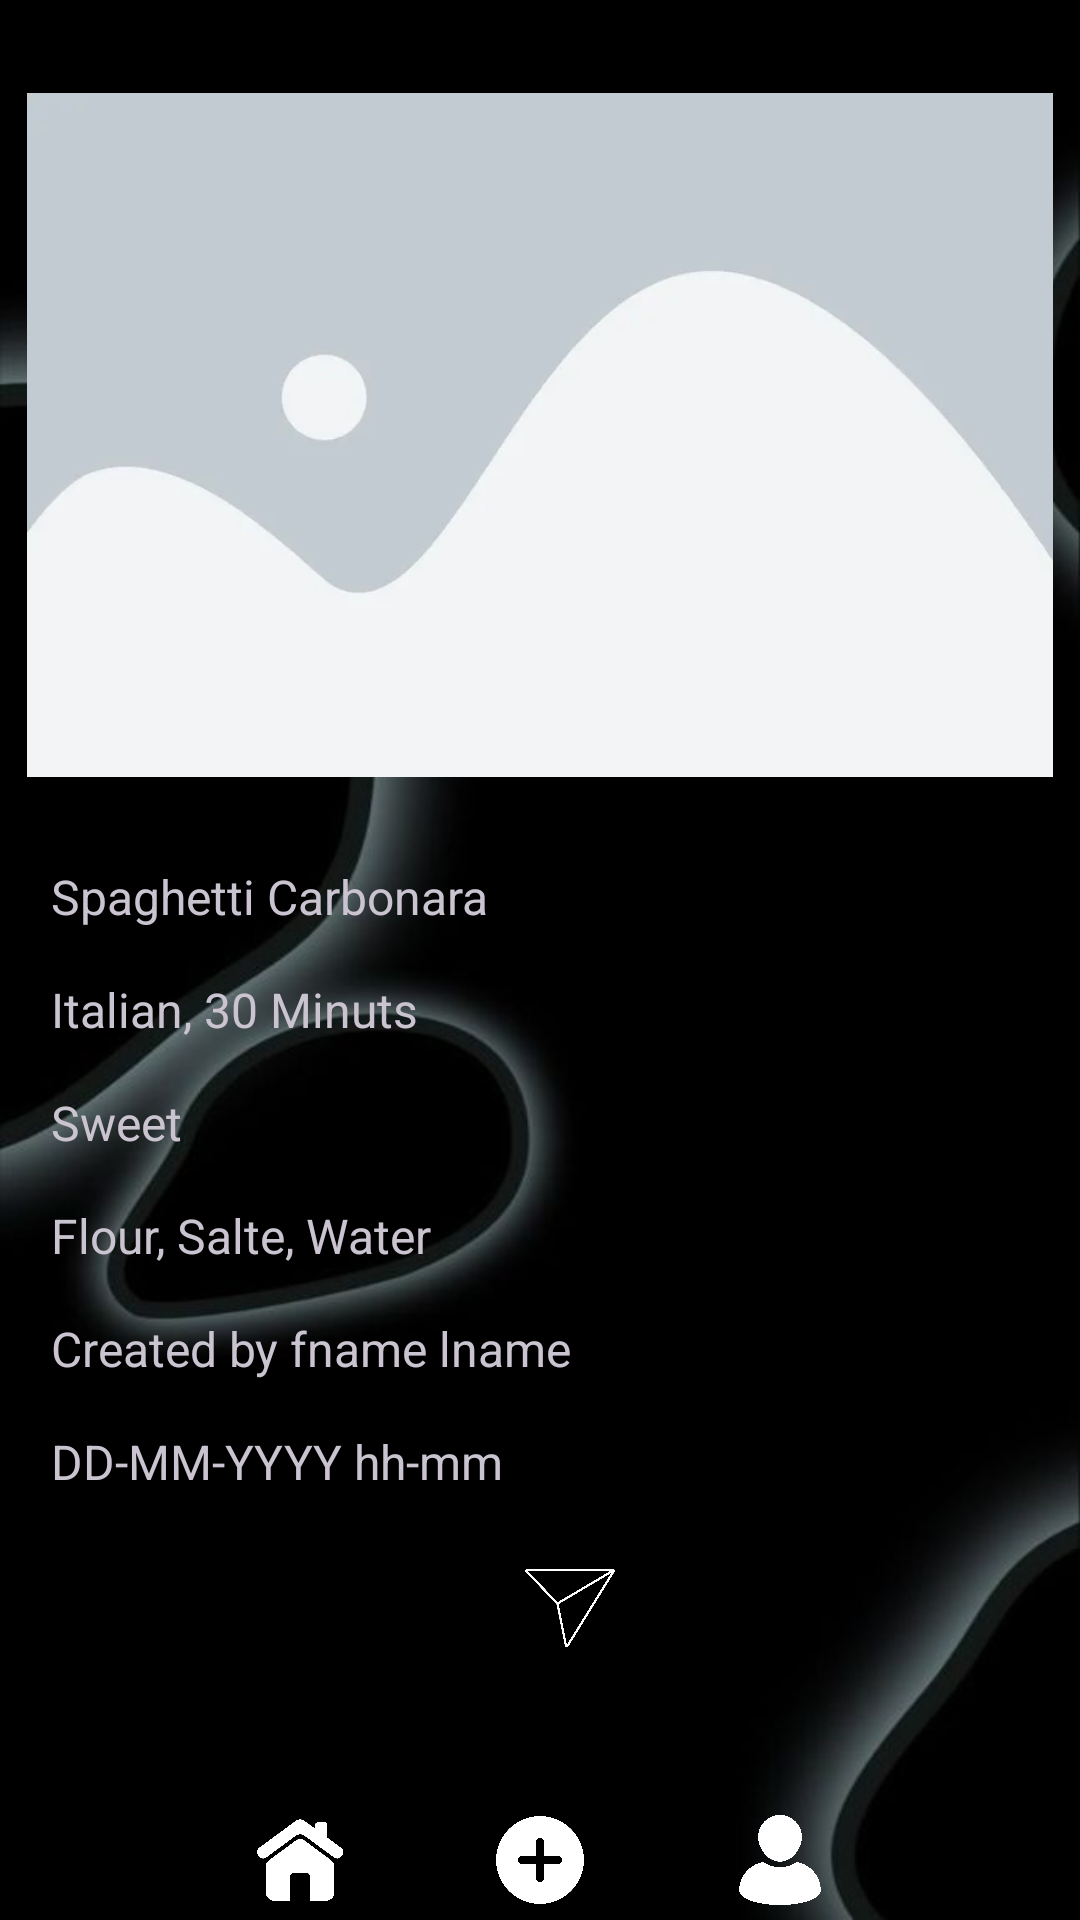

Point at icon controls on the screen. Image size 1080px x 1920px, points as (x=x, y=y).
add: (x=540, y=1860)
home: (x=300, y=1860)
profile: (x=789, y=1860)
